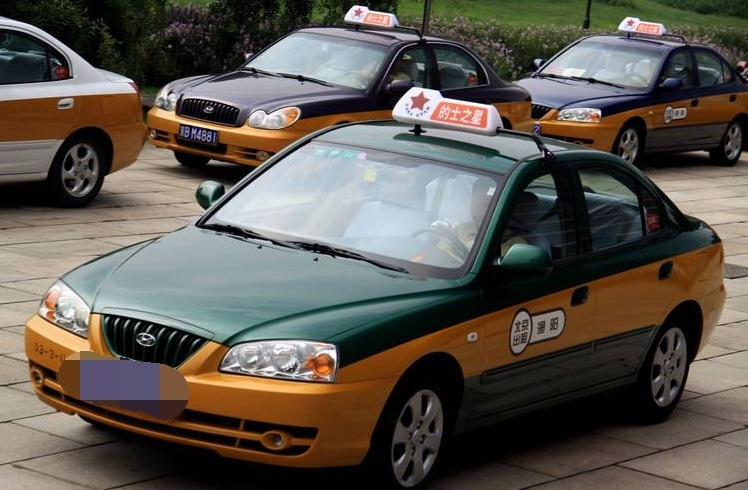taxi: (22, 103, 731, 490)
